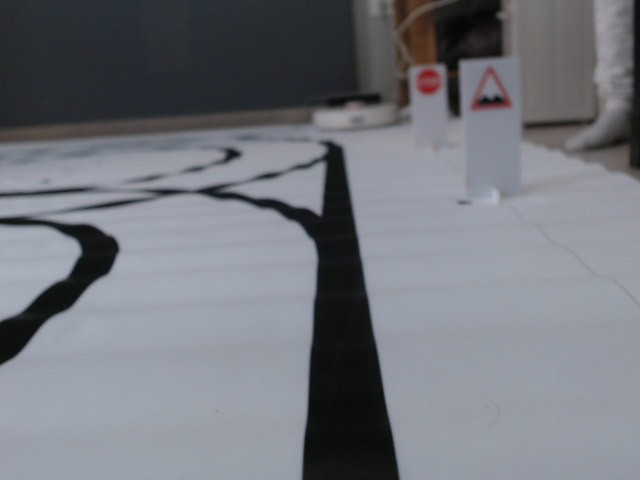Nerov: (467, 66, 515, 112)
